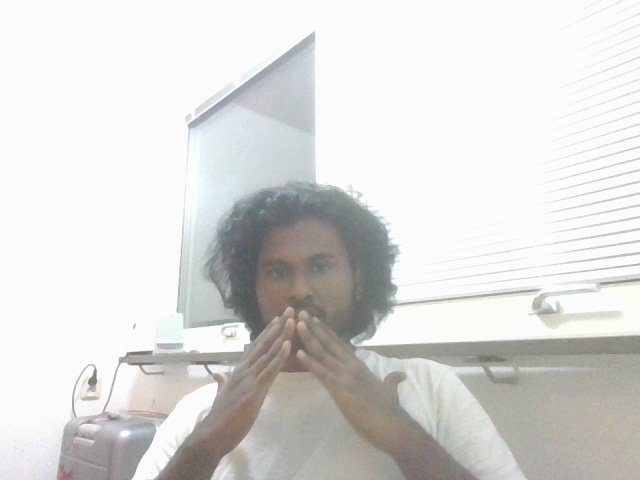Thanks: (191, 298, 448, 446)
